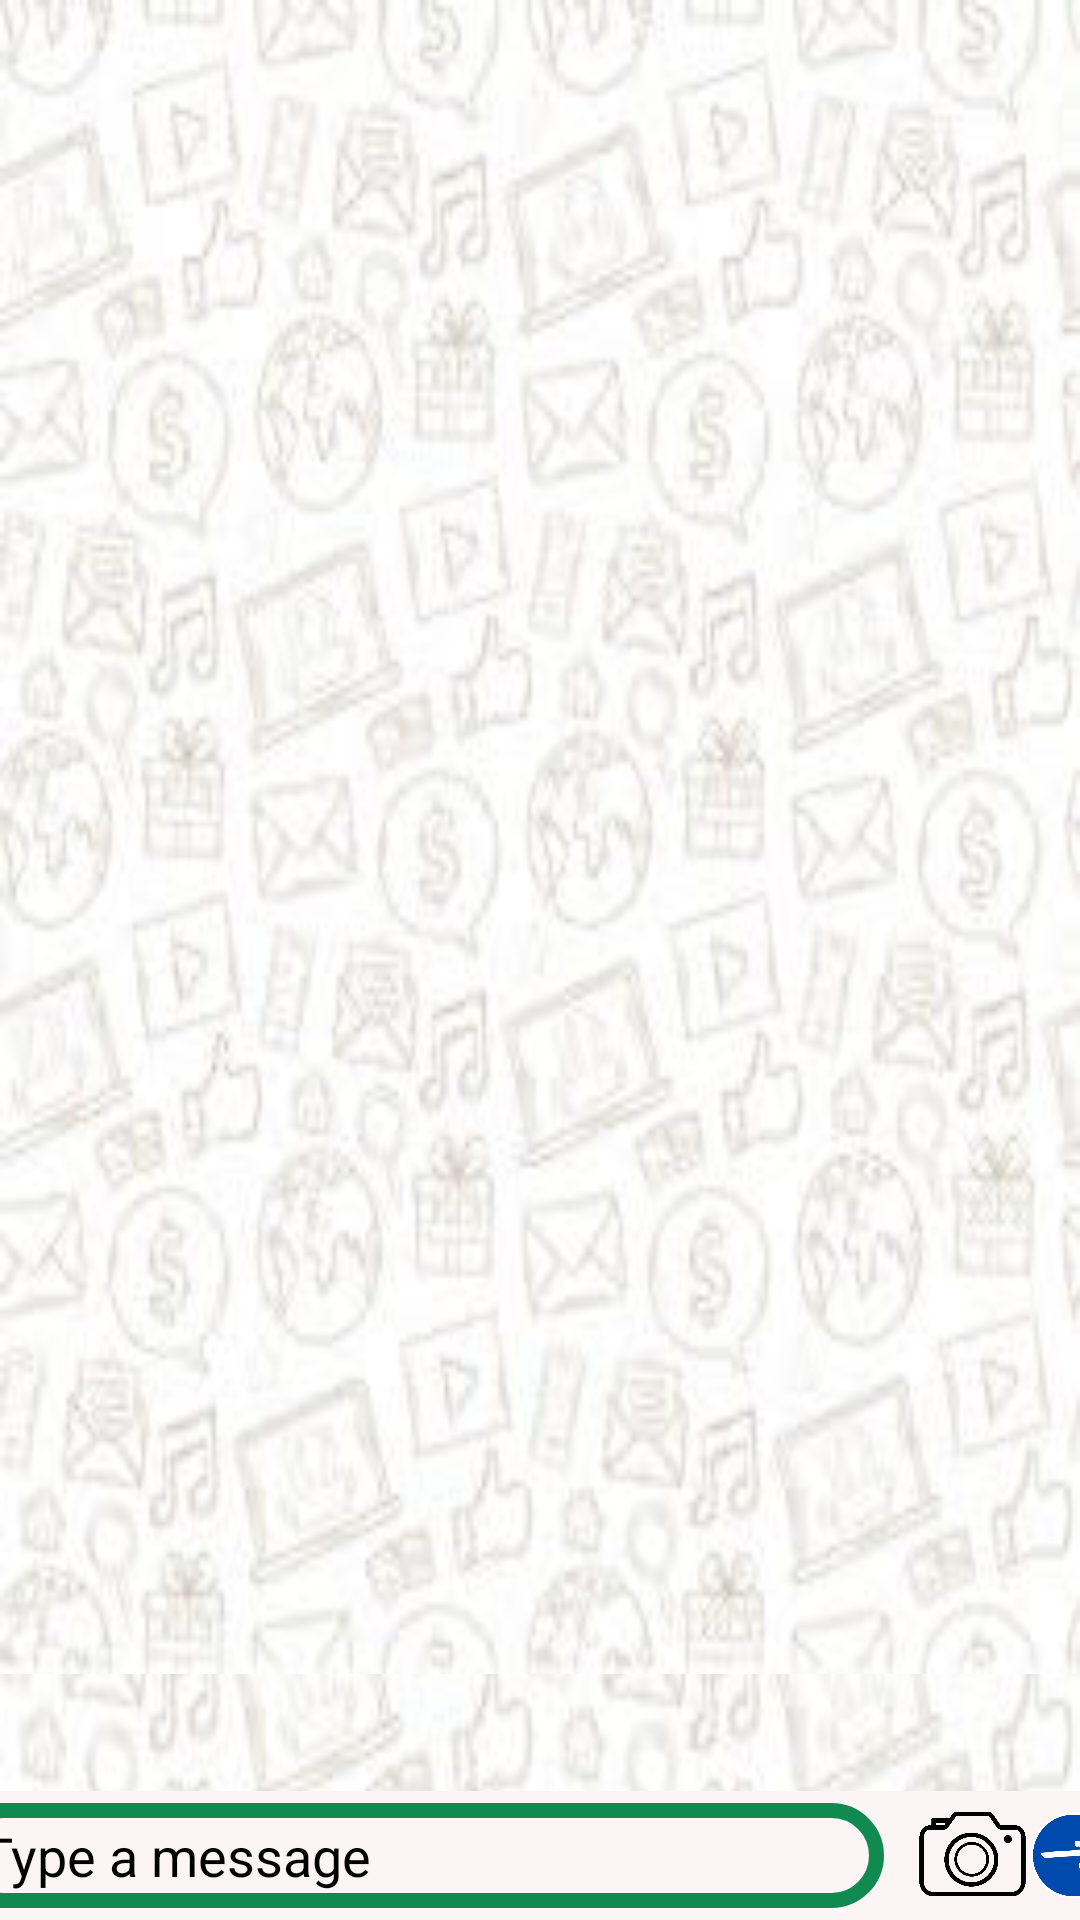

Icons on this 1080 x 1920 Android screen, each with the point to tap as (x,y):
cam: (972,1854)
